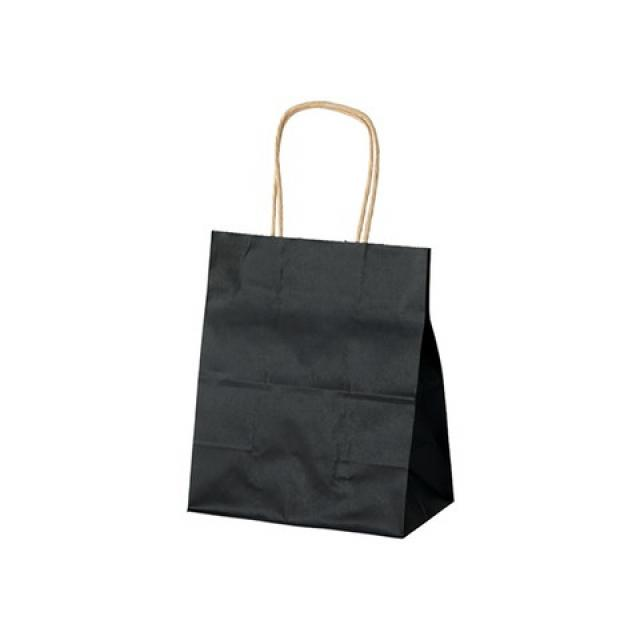paper bag: (179, 96, 458, 543)
